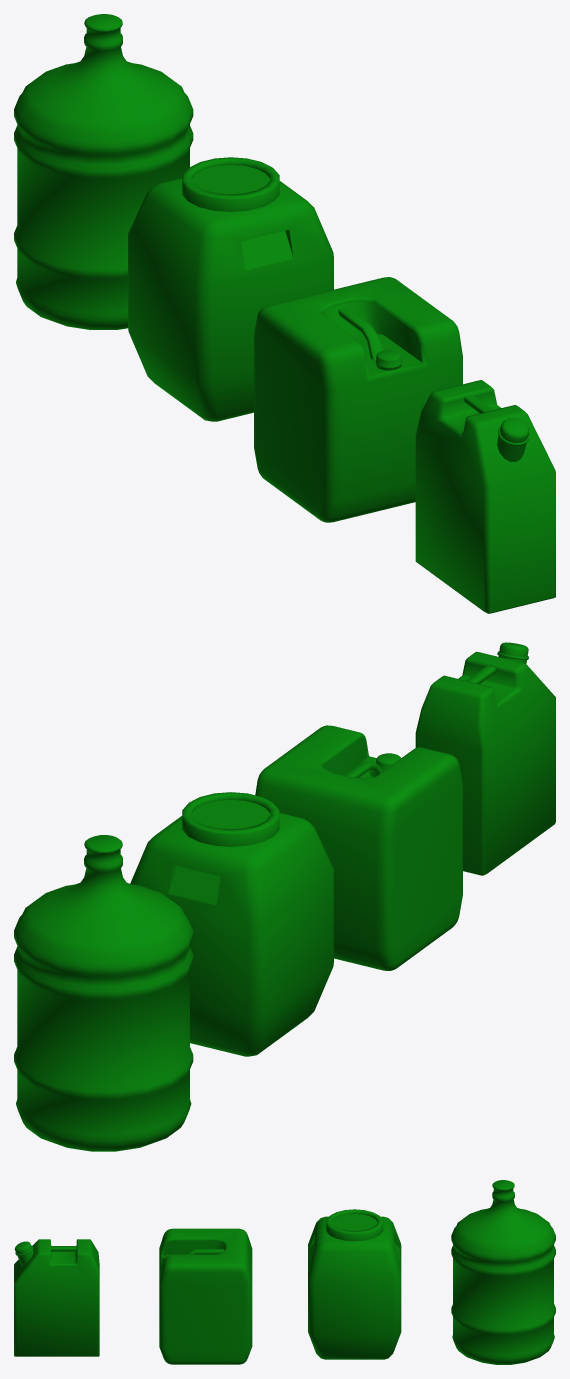
Rendered from Barrels_2.FBX.
3 views of the same model, one above another, from view 1: azimuth 30°, elevation 25°; view 2: azimuth 150°, elevation 25°; view 3: azimuth 270°, elevation 25° (orthographic). The views are drawn at different scales.
Visible parts, largest first — view 1: Barrel_07, Barrel_05, Barrel_06, Barrel_08; view 2: Barrel_05, Barrel_06, Barrel_07, Barrel_08; view 3: Barrel_05, Barrel_06, Barrel_07, Barrel_08.
Part boxes in pixels (<box>): Barrel_07: <box>254,277,462,522</box>; Barrel_05: <box>14,14,193,329</box>; Barrel_06: <box>128,157,333,421</box>; Barrel_08: <box>415,380,555,613</box>; Barrel_05: <box>14,835,193,1151</box>; Barrel_06: <box>130,792,333,1056</box>; Barrel_07: <box>255,725,462,970</box>; Barrel_08: <box>415,642,555,875</box>; Barrel_05: <box>451,1180,555,1364</box>; Barrel_06: <box>308,1209,401,1359</box>; Barrel_07: <box>159,1228,252,1364</box>; Barrel_08: <box>14,1239,99,1356</box>.
Bounding box in the file's own units: 27.72 × 48.35 × 146.
